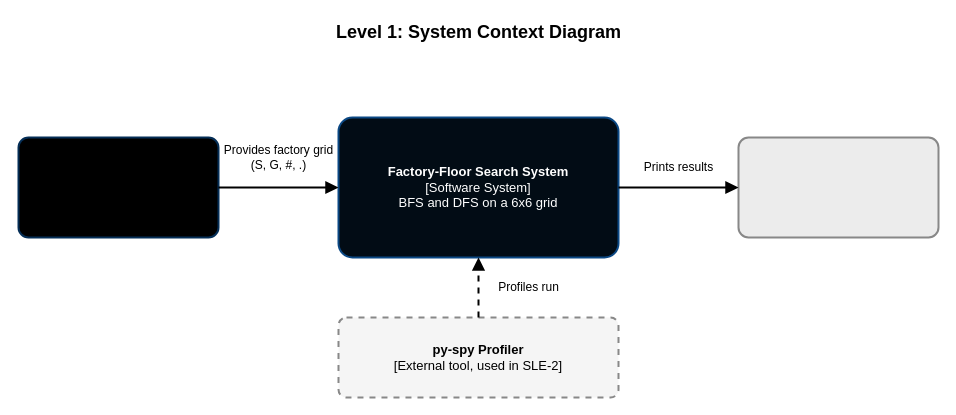
Image size: 956x415. Some labels were removed from this diagram. The centre of each missing label's shape, as x and y in pixels:
Console Output [Result] Nodes explored + timing: (x=838, y=187)
User / Operator [Person] Student running the search: (x=118, y=187)
